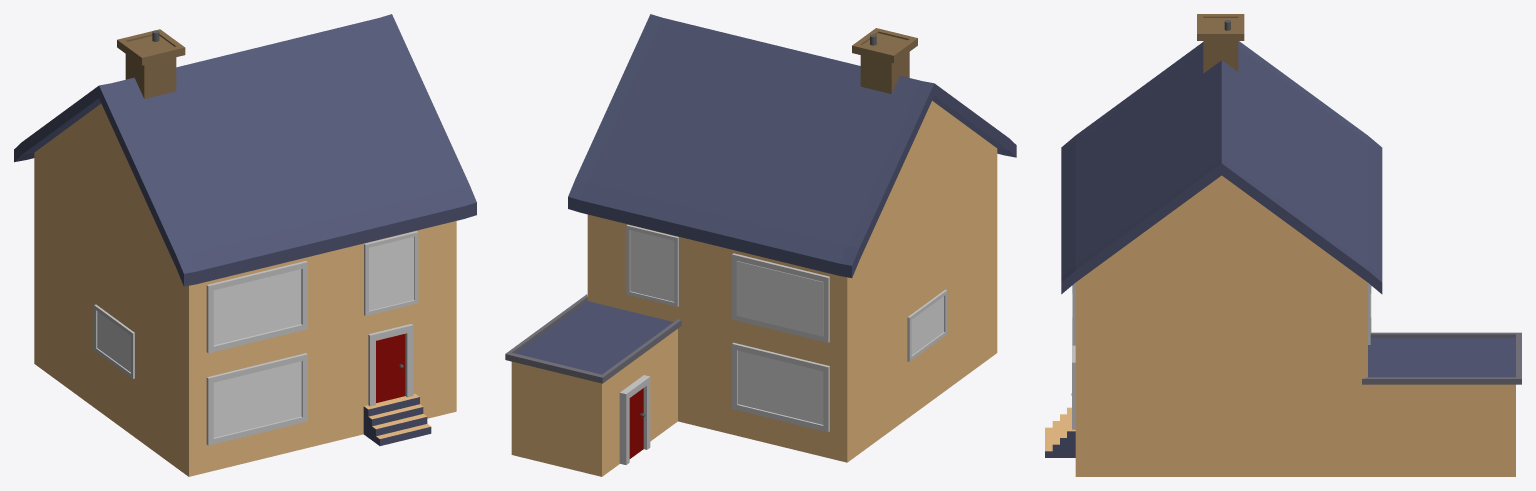
The model's file is Hendrik_House.fbx.
The picture shows the model from 3 angles, left to right: view 1: azimuth 30°, elevation 25°; view 2: azimuth 150°, elevation 25°; view 3: azimuth 270°, elevation 25°; orthographic projection. The views are drawn at different scales.
Visible parts, largest first — view 1: Cube; view 2: Cube; view 3: Cube.
Boxes of the visible parts, x1,y1,x2,y2 form: Cube: (14,14,476,476); Cube: (505,14,1016,476); Cube: (1045,14,1521,476).
Bounding box in the file's own units: 2171 × 2654 × 3237.
